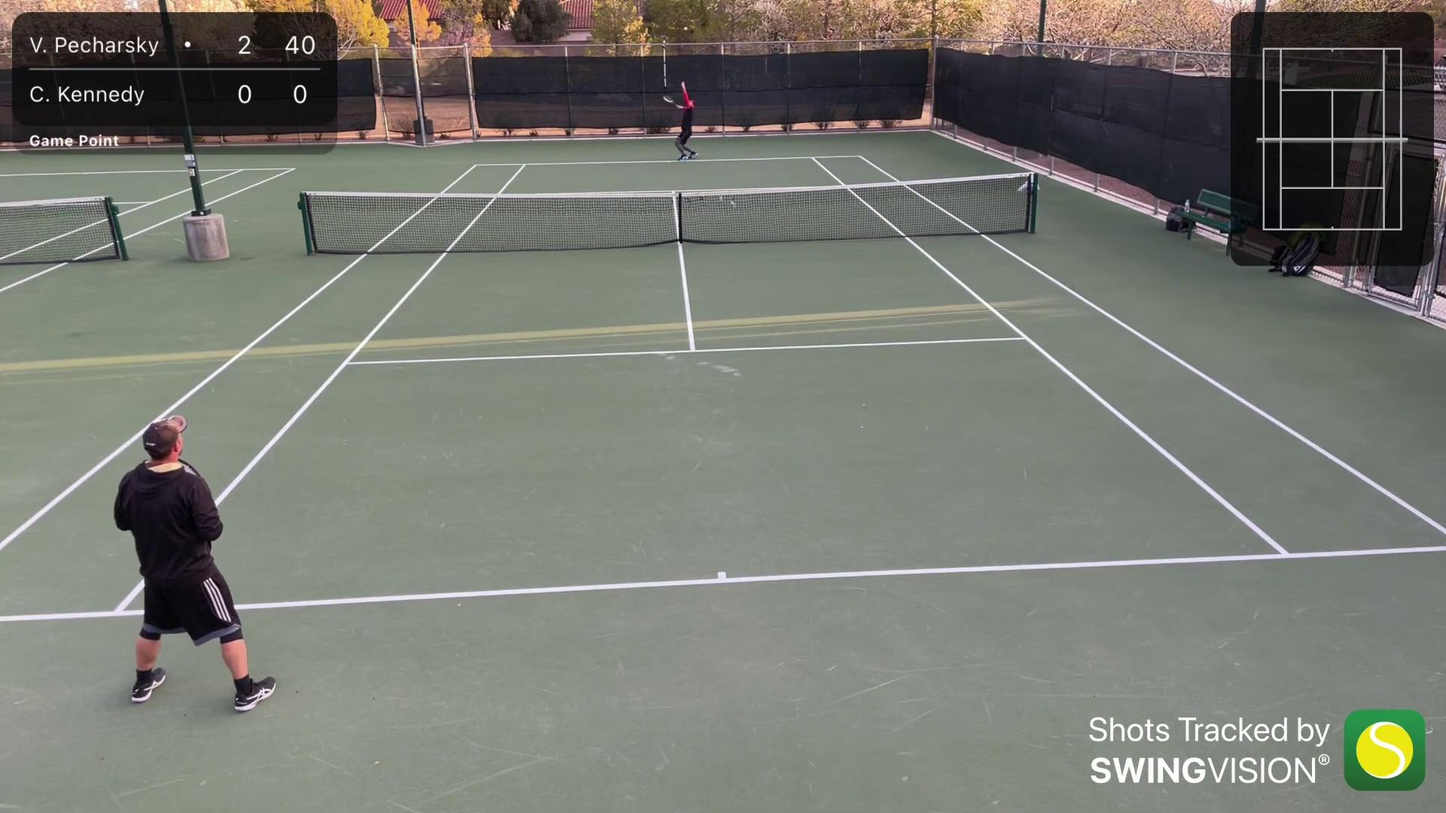ball: (683, 26, 689, 31)
